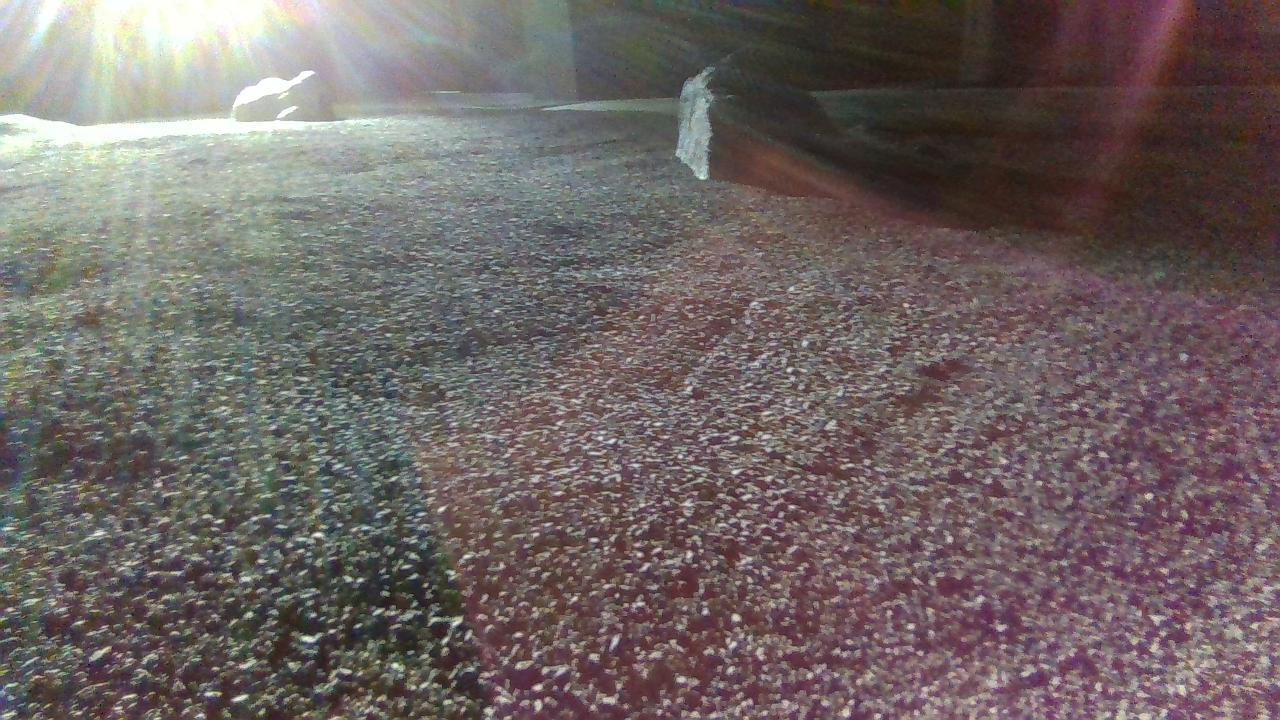rock: (681, 65, 828, 178), (229, 75, 334, 120)
